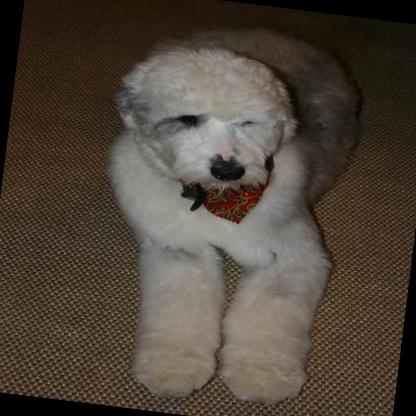Old_English_sheepdog: (74, 10, 366, 412)
